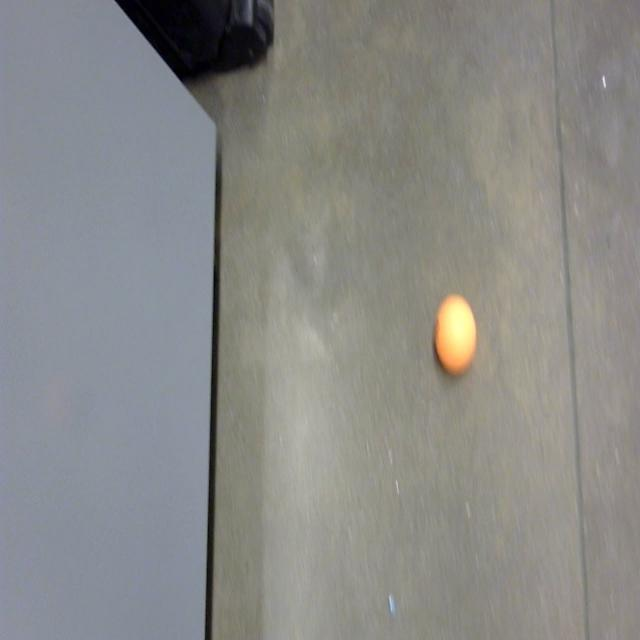ball: (434, 292, 479, 376)
